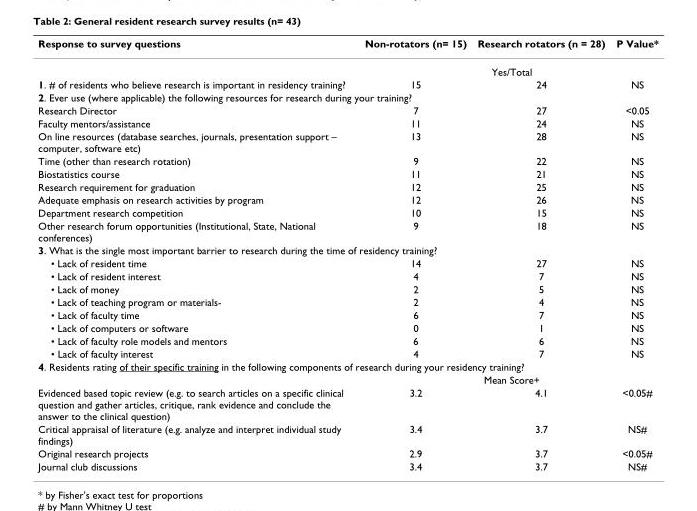table: (37, 36, 657, 471)
table column: (37, 36, 354, 471), (471, 36, 610, 471), (354, 36, 471, 471), (610, 36, 657, 471)
table column header: (37, 36, 657, 57)
table projected row header: (37, 90, 657, 103), (37, 243, 657, 256), (37, 359, 657, 372)
table row: (37, 385, 657, 421), (37, 218, 657, 243), (37, 421, 657, 446), (37, 129, 657, 153), (37, 36, 657, 57), (37, 57, 657, 77), (37, 77, 657, 90), (37, 90, 657, 103), (37, 103, 657, 116), (37, 116, 657, 129), (37, 153, 657, 166), (37, 166, 657, 179), (37, 179, 657, 192), (37, 192, 657, 205), (37, 205, 657, 218), (37, 243, 657, 256), (37, 256, 657, 269), (37, 269, 657, 282), (37, 282, 657, 295), (37, 295, 657, 308), (37, 308, 657, 321), (37, 333, 657, 346), (37, 346, 657, 359), (37, 359, 657, 372), (37, 372, 657, 385), (37, 446, 657, 459), (37, 321, 657, 333), (37, 459, 657, 471)
table spanning cell: (354, 57, 657, 77), (354, 372, 657, 385)
